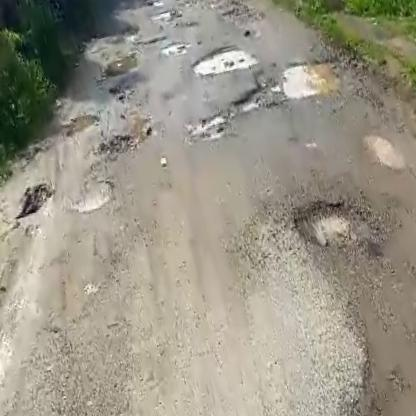pothole: (285, 184, 380, 261), (233, 53, 342, 116), (187, 39, 256, 81), (186, 109, 234, 146), (69, 180, 117, 217)
